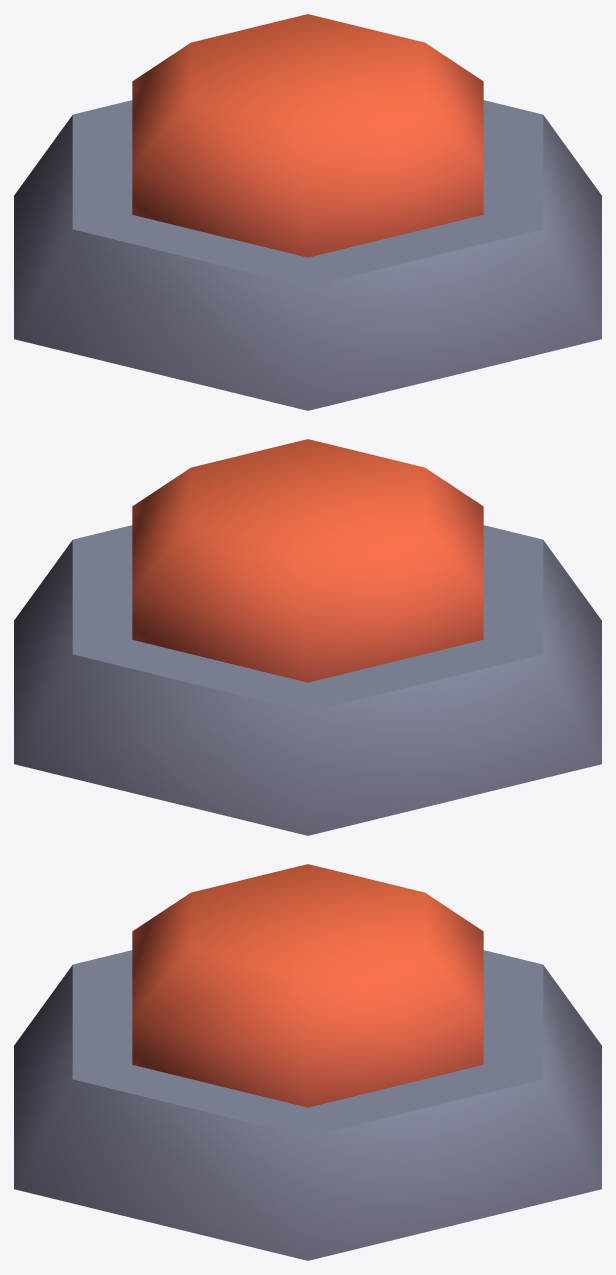
Rendered from button-round.glb.
3 views of the same model, one above another, from view 1: azimuth 30°, elevation 25°; view 2: azimuth 150°, elevation 25°; view 3: azimuth 270°, elevation 25° (orthographic).
Parts seen in each view (by area): view 1: button-round, button; view 2: button-round, button; view 3: button-round, button.
Boxes of the visible parts, box(x1,y1,x2,y2) form: button-round: box(14, 100, 601, 410); button: box(132, 14, 483, 257); button-round: box(14, 525, 601, 835); button: box(132, 439, 483, 682); button-round: box(14, 950, 601, 1260); button: box(132, 864, 483, 1107).
Bounding box in the file's own units: 0.58 × 0.185 × 0.5023.
Materials: 1 (1 with a texture image).
